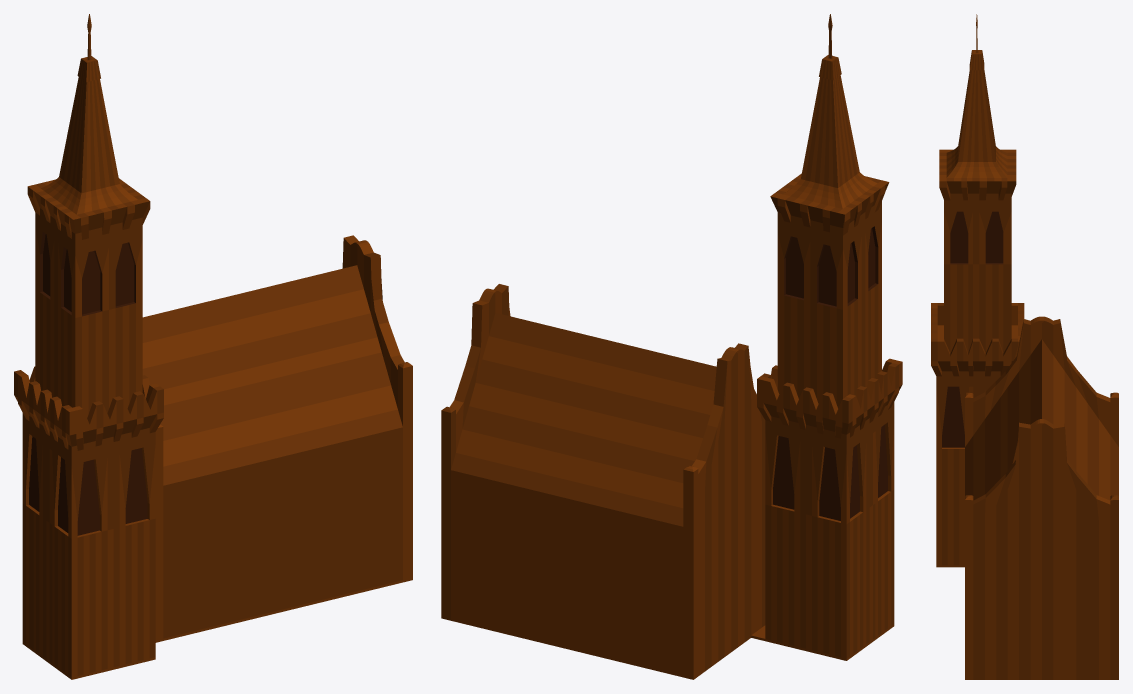
The model's file is ChuchLined.fbx.
3 views of the same model, side by side, from view 1: azimuth 30°, elevation 25°; view 2: azimuth 150°, elevation 25°; view 3: azimuth 270°, elevation 25° (orthographic). The views are drawn at different scales.
Visible parts, largest first — view 1: Cube; view 2: Cube; view 3: Cube.
Part boxes in pixels (<box>): Cube: <box>14,14,412,679</box>; Cube: <box>441,14,902,679</box>; Cube: <box>931,14,1118,679</box>.
Bounding box in the file's own units: 458 × 769 × 244.
